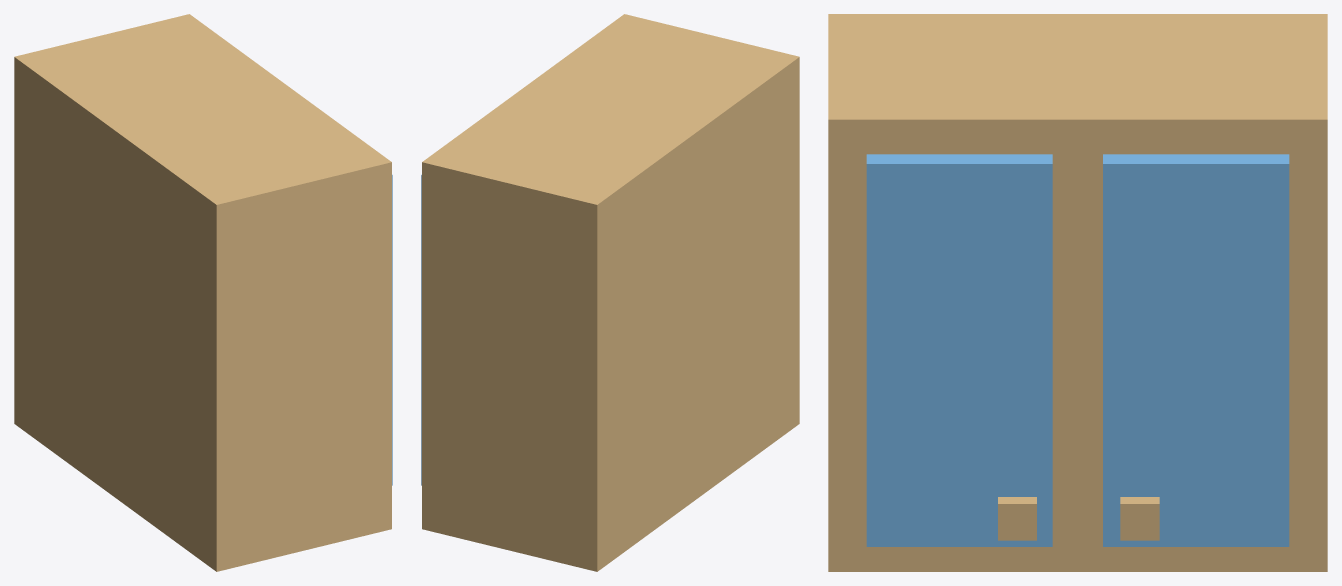
File: Cabinet_2Doors.fbx
3 renders of one model, left to right at view 1: azimuth 30°, elevation 25°; view 2: azimuth 150°, elevation 25°; view 3: azimuth 270°, elevation 25°, orthographic. The views are drawn at different scales.
Visible parts, largest first — view 1: Cube; view 2: Cube; view 3: Cube.
Part boxes in pixels (<box>): Cube: <box>14,14,392,571</box>; Cube: <box>421,14,799,571</box>; Cube: <box>828,14,1327,571</box>.
Bounding box in the file's own units: 116 × 200 × 200.
